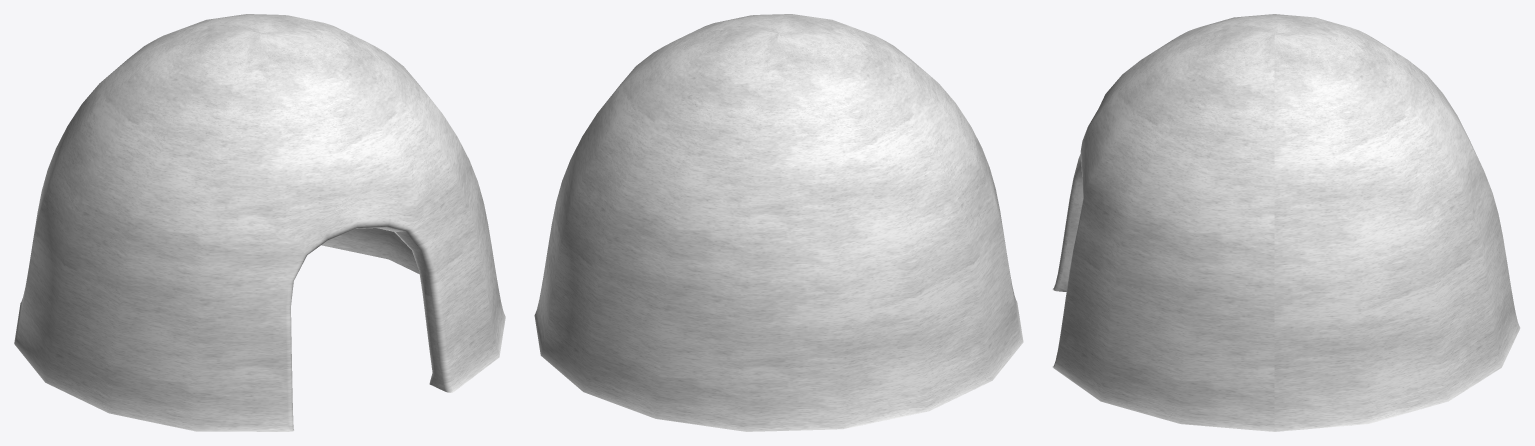
The model's file is Kamakura_A.fbx.
The picture shows the model from 3 angles, left to right: view 1: azimuth 30°, elevation 25°; view 2: azimuth 150°, elevation 25°; view 3: azimuth 270°, elevation 25°; orthographic projection.
Parts seen in each view (by area): view 1: Kamakura_A; view 2: Kamakura_A; view 3: Kamakura_A.
Boxes of the visible parts, x1,y1,x2,y2 form: Kamakura_A: (14, 14, 505, 431); Kamakura_A: (534, 14, 1023, 431); Kamakura_A: (1052, 14, 1520, 431).
Size of the model in its own units: 693 by 457 by 659.
1 material, 1 textured.
